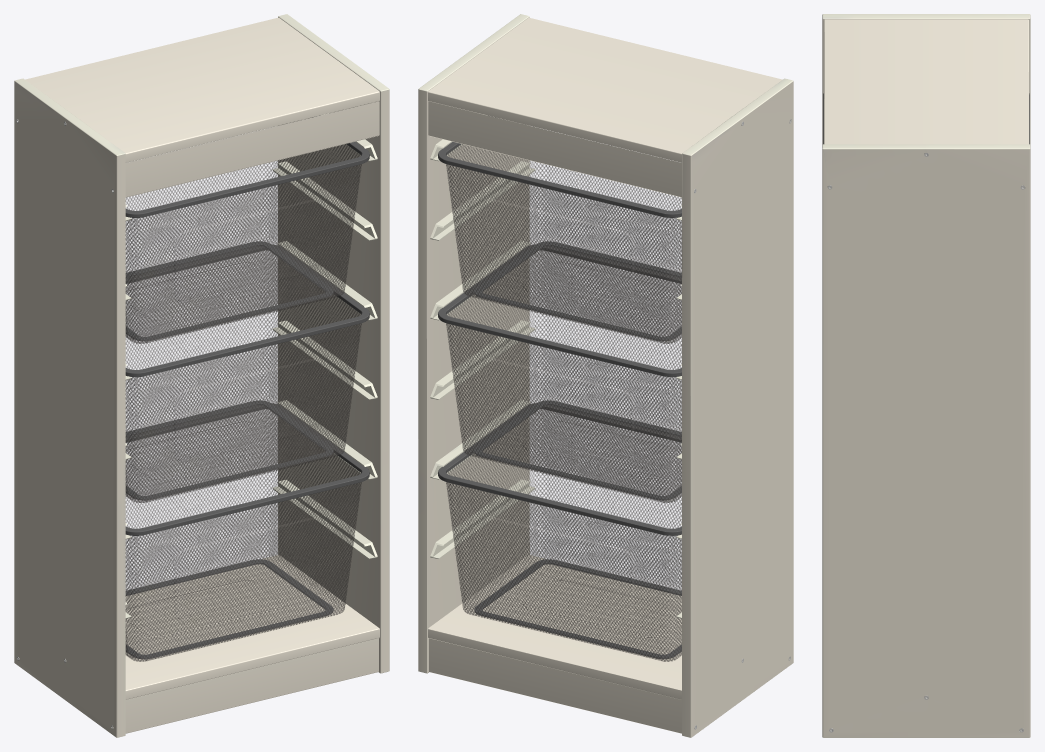
The model's file is 28 - TROFAST Storage combination with boxes - whitedark grey 46x30x94 cm.glb.
The picture shows the model from 3 angles, left to right: view 1: azimuth 30°, elevation 25°; view 2: azimuth 150°, elevation 25°; view 3: azimuth 270°, elevation 25°; orthographic projection.
Visible parts, largest first — view 1: model, 2, 2.001, 2.002, 1.001, 1, 1.002; view 2: model, 2.001, 2, 2.002, 1.001, 1, 1.002; view 3: model.
Part boxes in pixels (bbox=[...]): model: bbox=[14, 14, 389, 737]; 2: bbox=[125, 409, 361, 661]; 2.001: bbox=[125, 251, 361, 502]; 2.002: bbox=[125, 139, 361, 343]; 1.001: bbox=[125, 244, 369, 500]; 1: bbox=[125, 403, 369, 659]; 1.002: bbox=[125, 115, 369, 341]; model: bbox=[418, 14, 793, 737]; 2.001: bbox=[446, 251, 681, 502]; 2: bbox=[446, 409, 681, 661]; 2.002: bbox=[446, 122, 681, 343]; 1.001: bbox=[438, 244, 681, 500]; 1: bbox=[438, 403, 681, 659]; 1.002: bbox=[438, 115, 681, 341]; model: bbox=[822, 14, 1030, 737].
Size of the model in its own units: 0.4612 by 0.9375 by 0.3.
3 materials, 3 textured.
